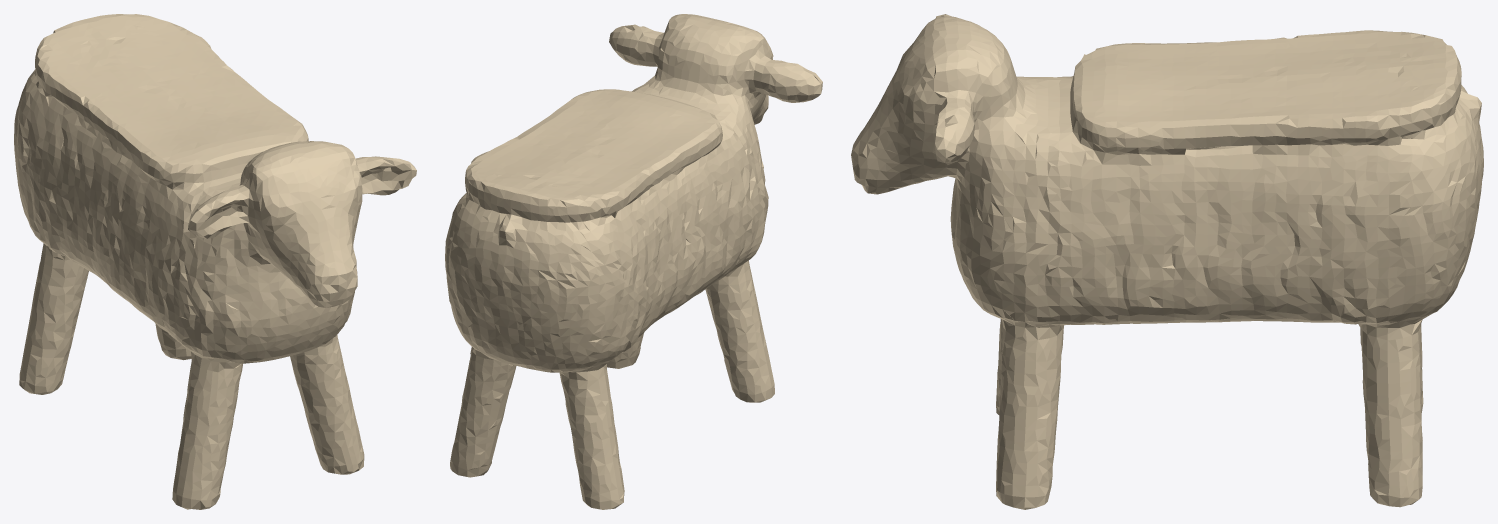
Rendered from sau-02.glb.
3 renders of one model, left to right at view 1: azimuth 30°, elevation 25°; view 2: azimuth 150°, elevation 25°; view 3: azimuth 270°, elevation 25°, orthographic. The views are drawn at different scales.
Visible parts, largest first — view 1: sau-02; view 2: sau-02; view 3: sau-02.
Boxes of the visible parts, x1,y1,x2,y2 form: sau-02: (14,14,416,509); sau-02: (445,14,822,509); sau-02: (851,14,1483,509).
Bounding box in the file's own units: 47.32 × 71.9 × 97.27.
